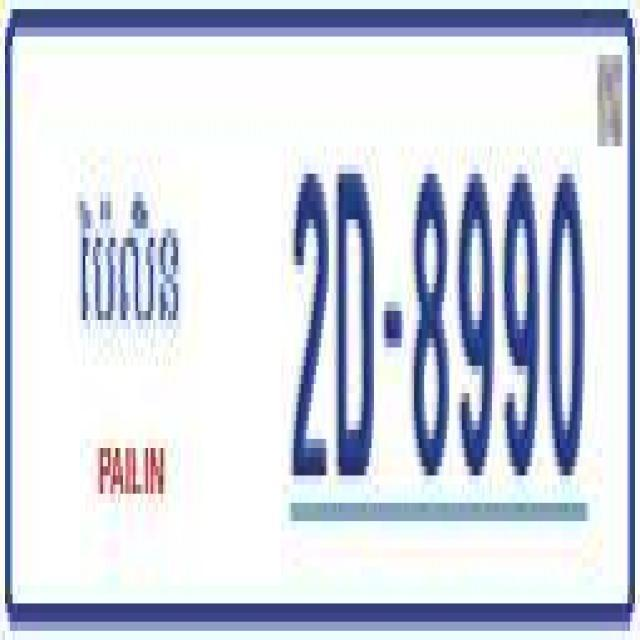Pailin: (74, 171, 182, 338)
